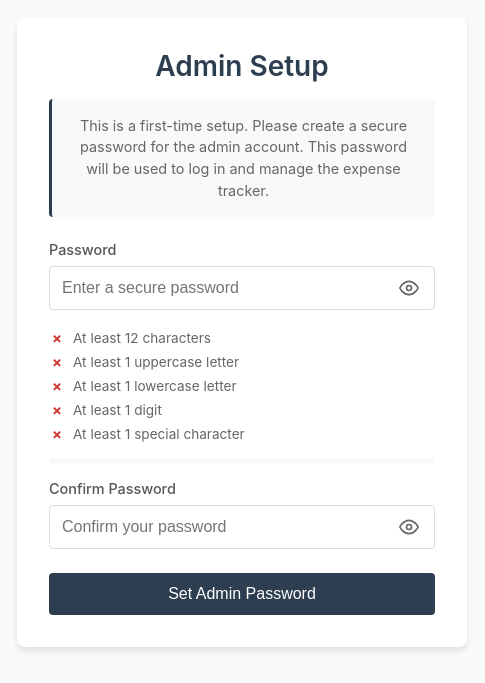
Scenario: AdminSetupPage › Form validation › clears error when user starts typing
Type "ValidPass123!" into the password field labelled "Password" at (242, 288), box [49, 266, 435, 310]
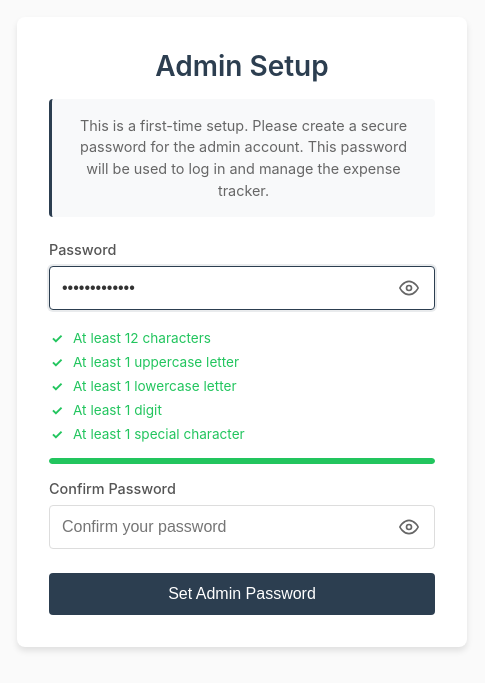
Type "DifferentPass!" into the password field labelled "Confirm Password" at (242, 527), box [49, 505, 435, 549]
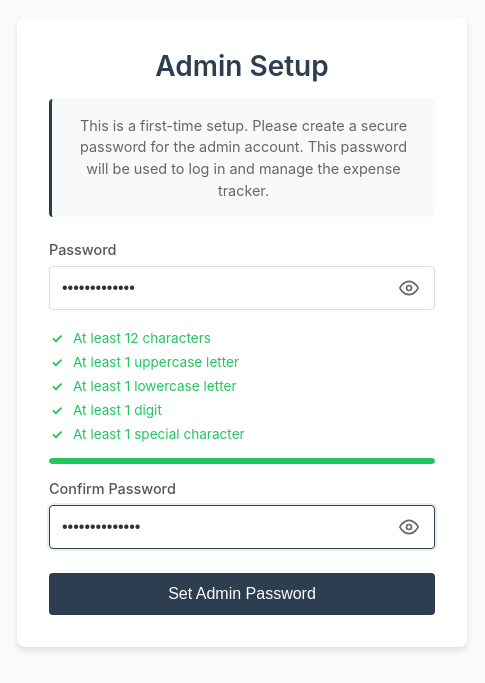
Click the button "Set Admin Password" at (242, 594), box [49, 573, 435, 615]
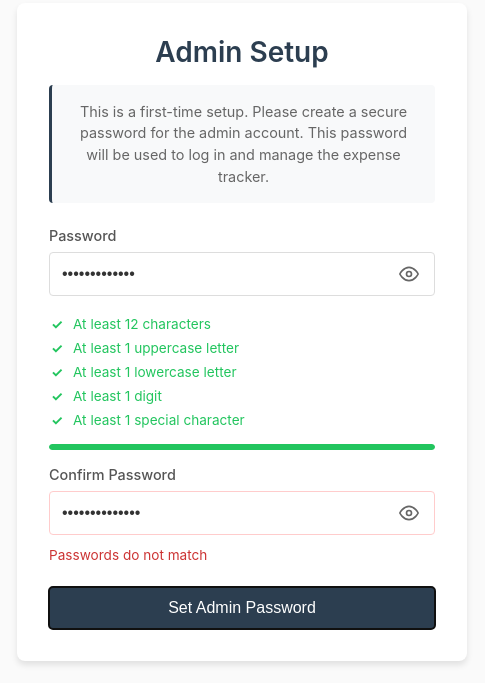
Check: the text "Passwords do not match" is shown, box [49, 547, 207, 563]
Type "123" into the password field labelled "Confirm Password" at (242, 513), box [49, 491, 435, 535]
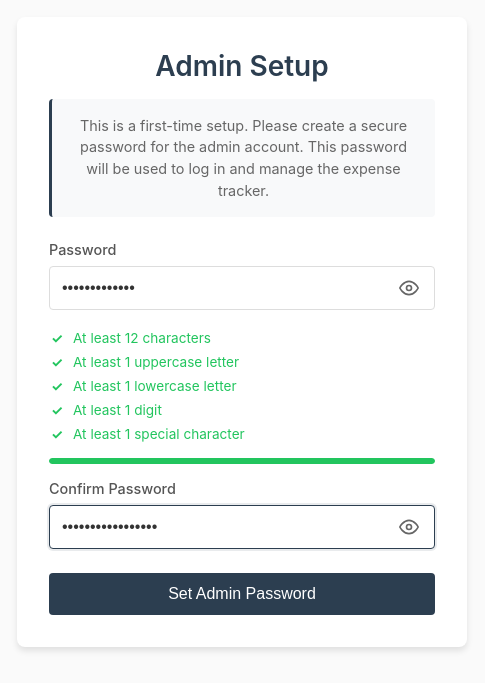
Check: the text "Passwords do not match" is gone
